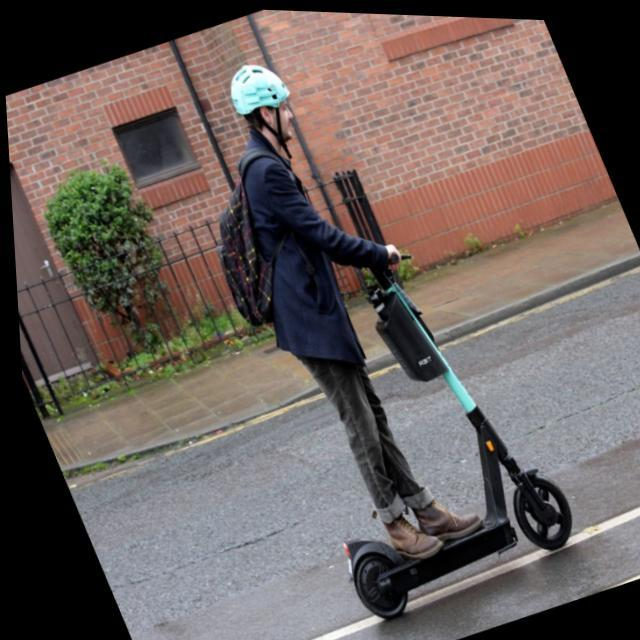Helmet: (226, 56, 304, 148)
